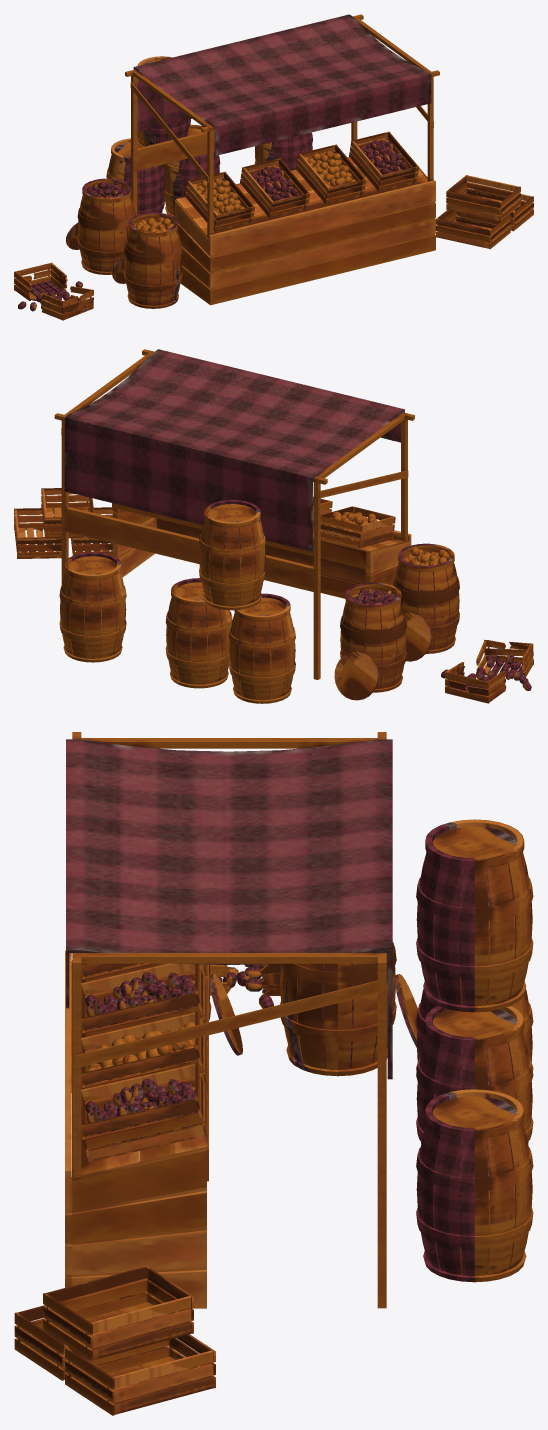
File: Concept_5.fbx
3 views of the same model, one above another, from view 1: azimuth 30°, elevation 25°; view 2: azimuth 150°, elevation 25°; view 3: azimuth 270°, elevation 25° (orthographic). The views are drawn at different scales.
Visible parts, largest first — view 1: Cube.138, Cube.139, Circle.087, Circle.089, Cube.148, Circle.083, Cube.146, Cube.141, Cube.142, Cube.143, Circle.084, Cube.140 (+5 smaller); view 2: Cube.138, Circle.085, Circle.086, Cube.139, Circle.083, Circle.084, Circle.089, Circle.087, Cube.140, Cube.147, Circle.090, Cube.145 (+4 smaller); view 3: Cube.138, Cube.139, Circle.086, Circle.085, Cube.148, Circle.084, Circle.089, Cube.147, Cube.142, Cube.141, Cube.143, Cube.146 (+4 smaller).
Boxes of the visible parts, bbox=[...] form: Cube.138: bbox=[125, 14, 439, 238]; Cube.139: bbox=[175, 157, 435, 305]; Circle.087: bbox=[124, 212, 182, 308]; Circle.089: bbox=[77, 178, 135, 274]; Cube.148: bbox=[446, 175, 520, 221]; Circle.083: bbox=[106, 138, 164, 214]; Cube.146: bbox=[436, 210, 510, 249]; Cube.141: bbox=[240, 158, 310, 218]; Cube.142: bbox=[349, 131, 419, 191]; Cube.143: bbox=[296, 144, 366, 204]; Circle.084: bbox=[162, 124, 220, 217]; Cube.140: bbox=[185, 171, 254, 231]; Cube.138: bbox=[54, 349, 414, 679]; Circle.085: bbox=[199, 500, 265, 610]; Circle.086: bbox=[59, 552, 126, 662]; Cube.139: bbox=[112, 503, 411, 598]; Circle.083: bbox=[229, 593, 295, 703]; Circle.084: bbox=[165, 578, 232, 688]; Circle.089: bbox=[340, 582, 406, 692]; Circle.087: bbox=[393, 543, 459, 653]; Cube.140: bbox=[320, 506, 395, 548]; Cube.147: bbox=[14, 508, 61, 558]; Circle.090: bbox=[334, 651, 378, 700]; Cube.145: bbox=[445, 662, 506, 703]; Cube.138: bbox=[66, 732, 392, 1308]; Cube.139: bbox=[65, 950, 208, 1308]; Circle.086: bbox=[416, 1089, 533, 1282]; Circle.085: bbox=[416, 819, 533, 1012]; Cube.148: bbox=[43, 1265, 193, 1361]; Circle.084: bbox=[416, 1005, 533, 1143]; Circle.089: bbox=[280, 942, 396, 1076]; Cube.147: bbox=[65, 1334, 215, 1415]; Cube.142: bbox=[81, 1063, 207, 1162]; Cube.141: bbox=[81, 963, 207, 1049]; Cube.143: bbox=[81, 1011, 207, 1101]; Cube.146: bbox=[14, 1286, 165, 1380].
Size of the model in its own units: 340 by 119 by 158.
